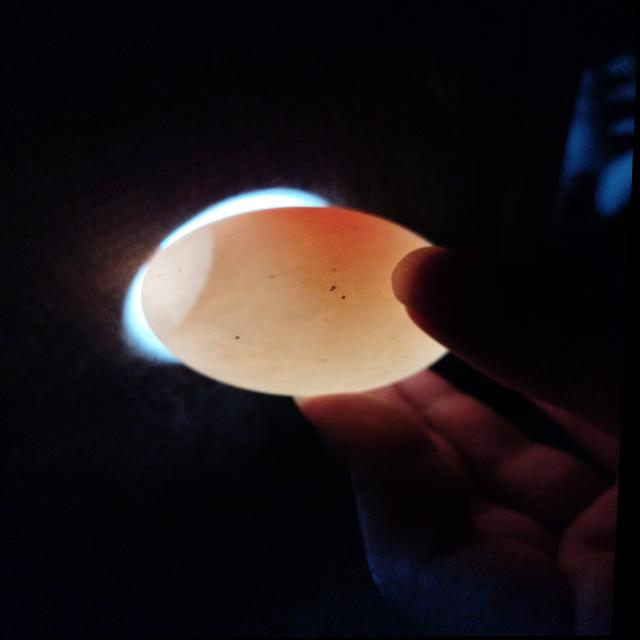Camara de Ar: (145, 227, 214, 338)
Gema Quebrada: (259, 208, 399, 315)
